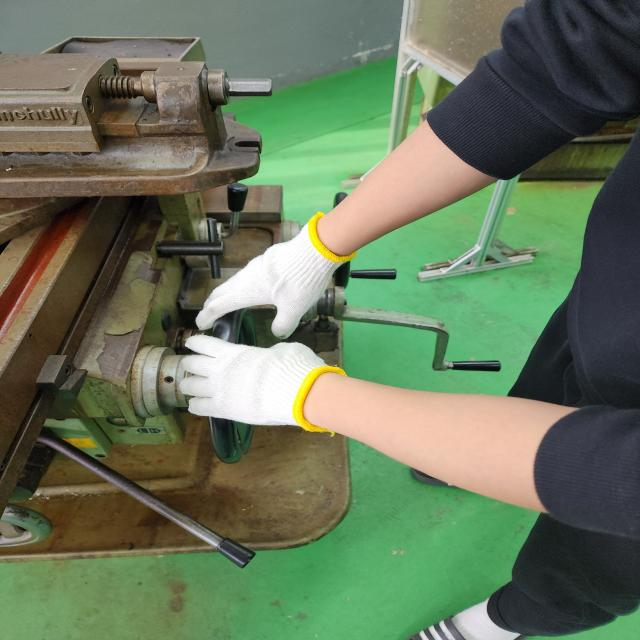Boots: (190, 219, 346, 333), (180, 336, 336, 432)
